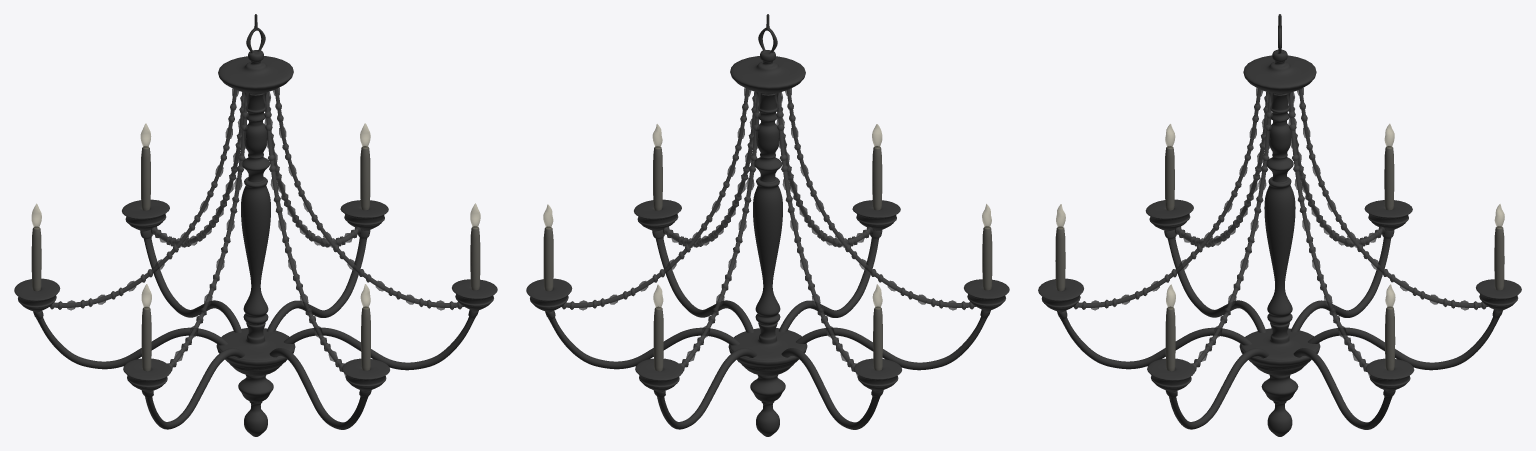
Rendered from Chandelier.fbx.
3 renders of one model, left to right at view 1: azimuth 30°, elevation 25°; view 2: azimuth 150°, elevation 25°; view 3: azimuth 270°, elevation 25°, orthographic.
Visible parts, largest first — view 1: Chandilere; view 2: Chandilere; view 3: Chandilere.
Boxes of the visible parts, x1,y1,x2,y2 form: Chandilere: (14,14,497,436); Chandilere: (526,14,1009,436); Chandilere: (1038,14,1521,436).
Size of the model in its own units: 7.52 by 8.21 by 8.53.
